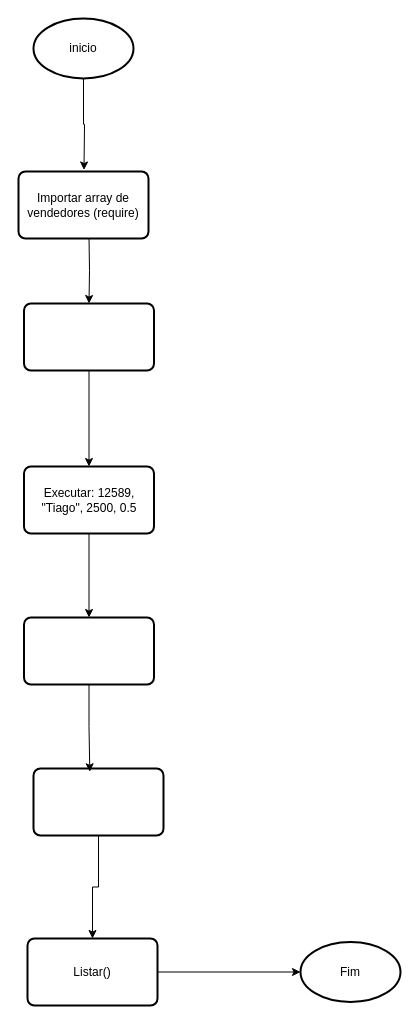
This 418x1023 diagram has some shape labels left out. The shapes that lost their labels are listed below. From the top down, each one's centre as x and y in pixels, then its label:
[88,336]: cadastrar, listar, buscar, excluir
[88,650]: Executar: buscar("257348")
[98,801]: Executar: excluir(1)
